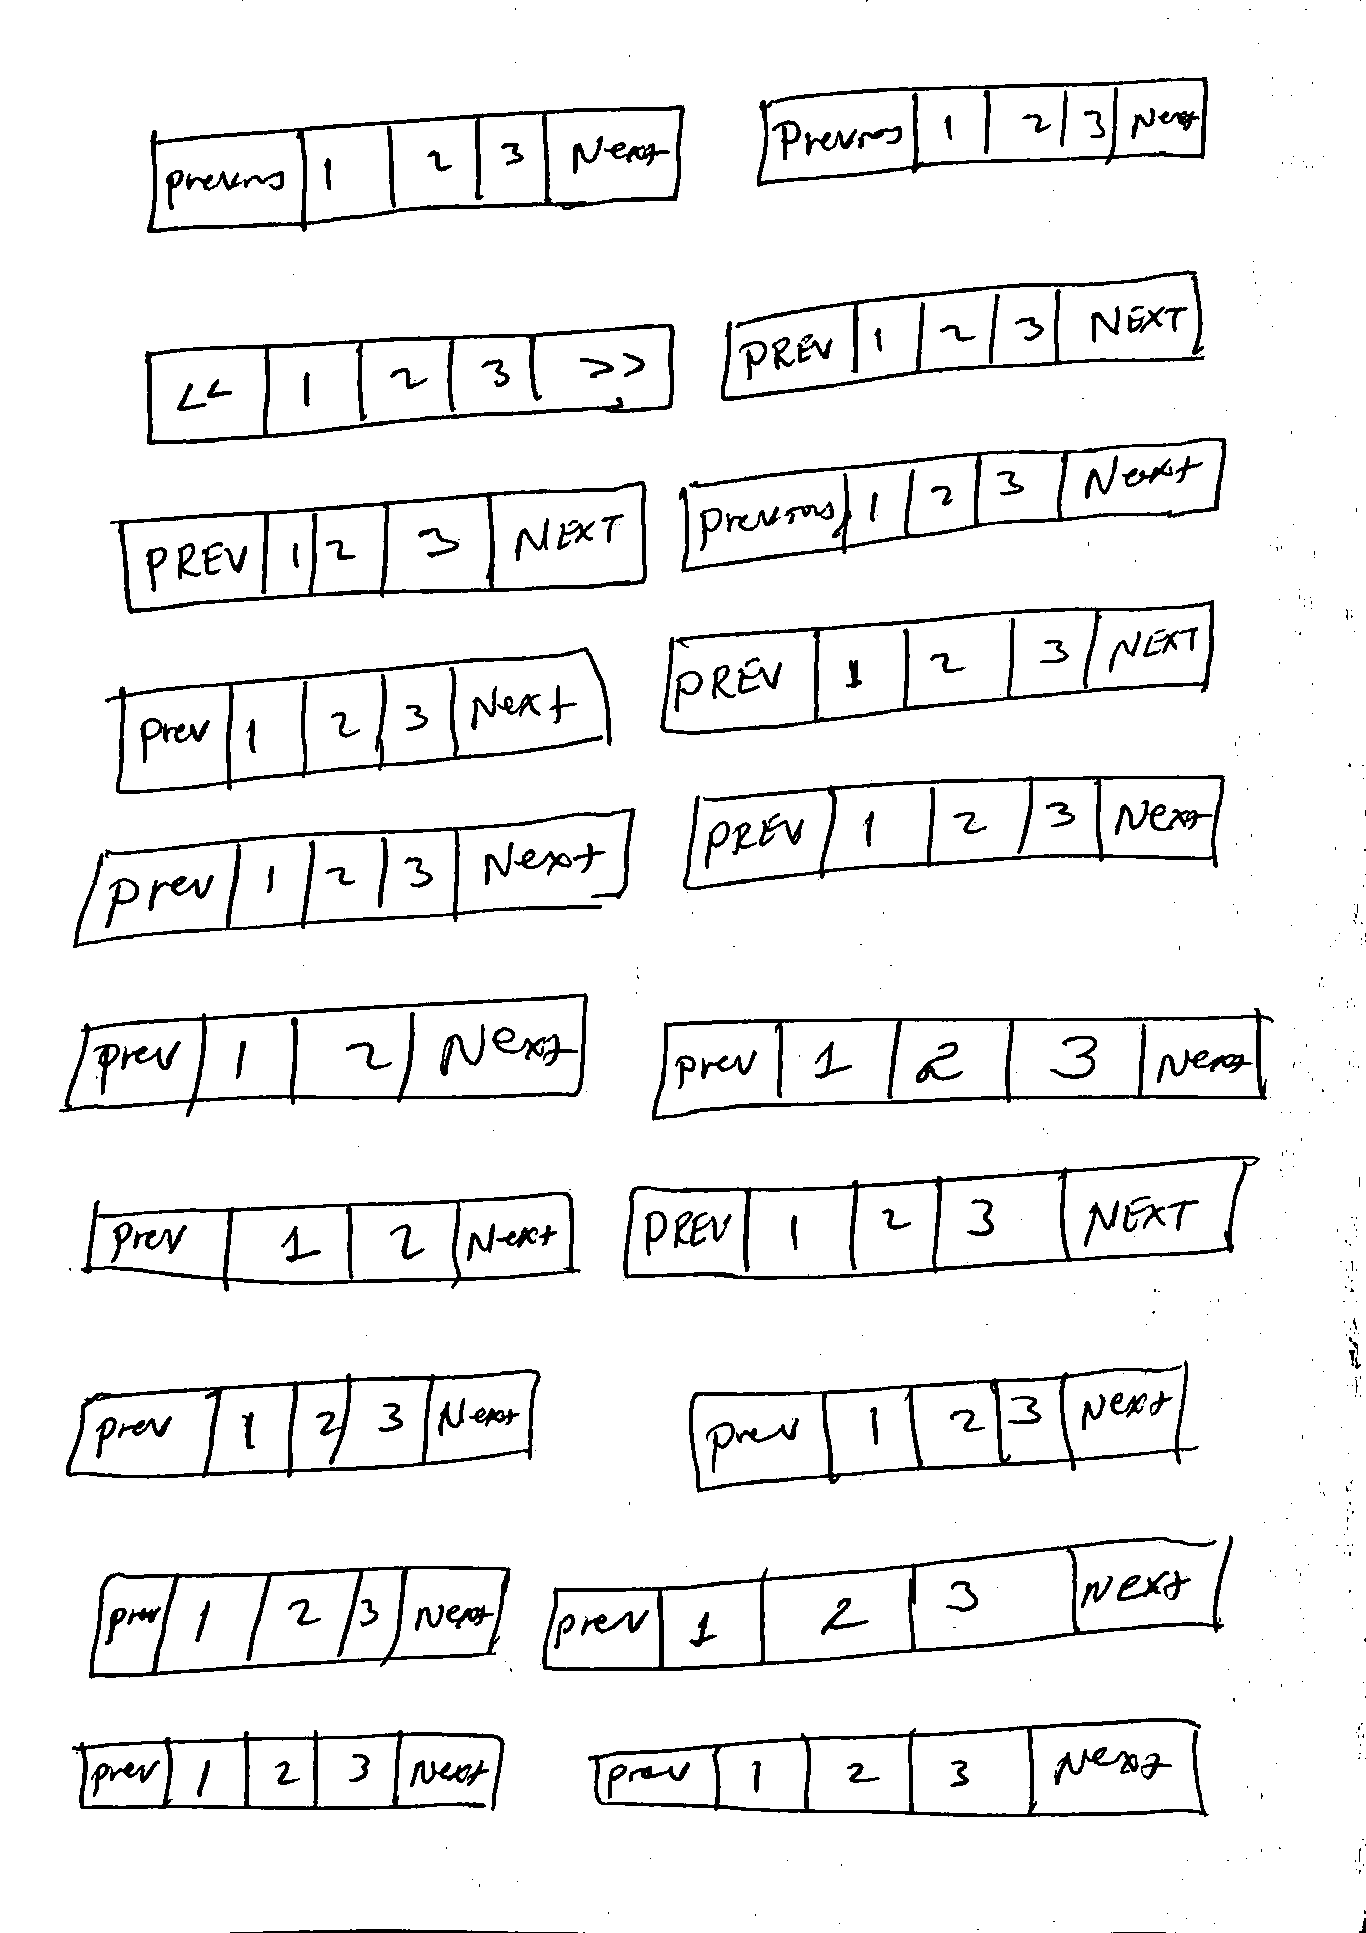Pagination: (540, 1533, 1237, 1677), (619, 1151, 1254, 1281), (71, 805, 637, 947), (676, 432, 1229, 576), (656, 599, 1217, 737), (111, 646, 614, 797), (142, 102, 686, 239), (114, 479, 649, 616), (140, 321, 677, 449), (646, 1011, 1268, 1122), (684, 1361, 1192, 1493), (591, 1714, 1209, 1822), (679, 771, 1226, 893), (58, 992, 591, 1116), (717, 267, 1203, 403), (61, 1366, 541, 1481), (752, 71, 1209, 188), (86, 1562, 512, 1680), (78, 1190, 577, 1287), (75, 1729, 507, 1816)
